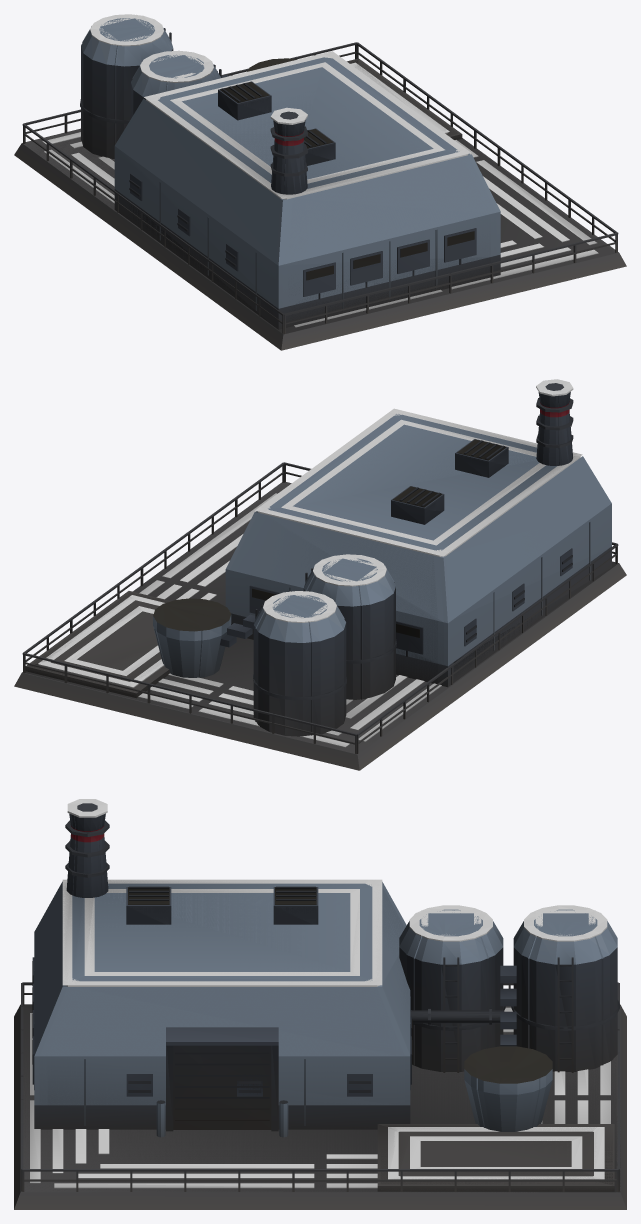
The model's file is veyran_refinery.glb.
3 renders of one model, top to bottom at view 1: azimuth 30°, elevation 25°; view 2: azimuth 150°, elevation 25°; view 3: azimuth 270°, elevation 25°, orthographic. The views are drawn at different scales.
Visible parts, largest first — view 1: body (×3); view 2: body (×3); view 3: body (×3).
Part boxes in pixels (left/top/right/bottom): body (×3): left=14, top=14, right=626, bottom=350; body (×3): left=14, top=379, right=626, bottom=770; body (×3): left=14, top=799, right=626, bottom=1209.
Size of the model in its own units: 11.2 by 6.25 by 15.
